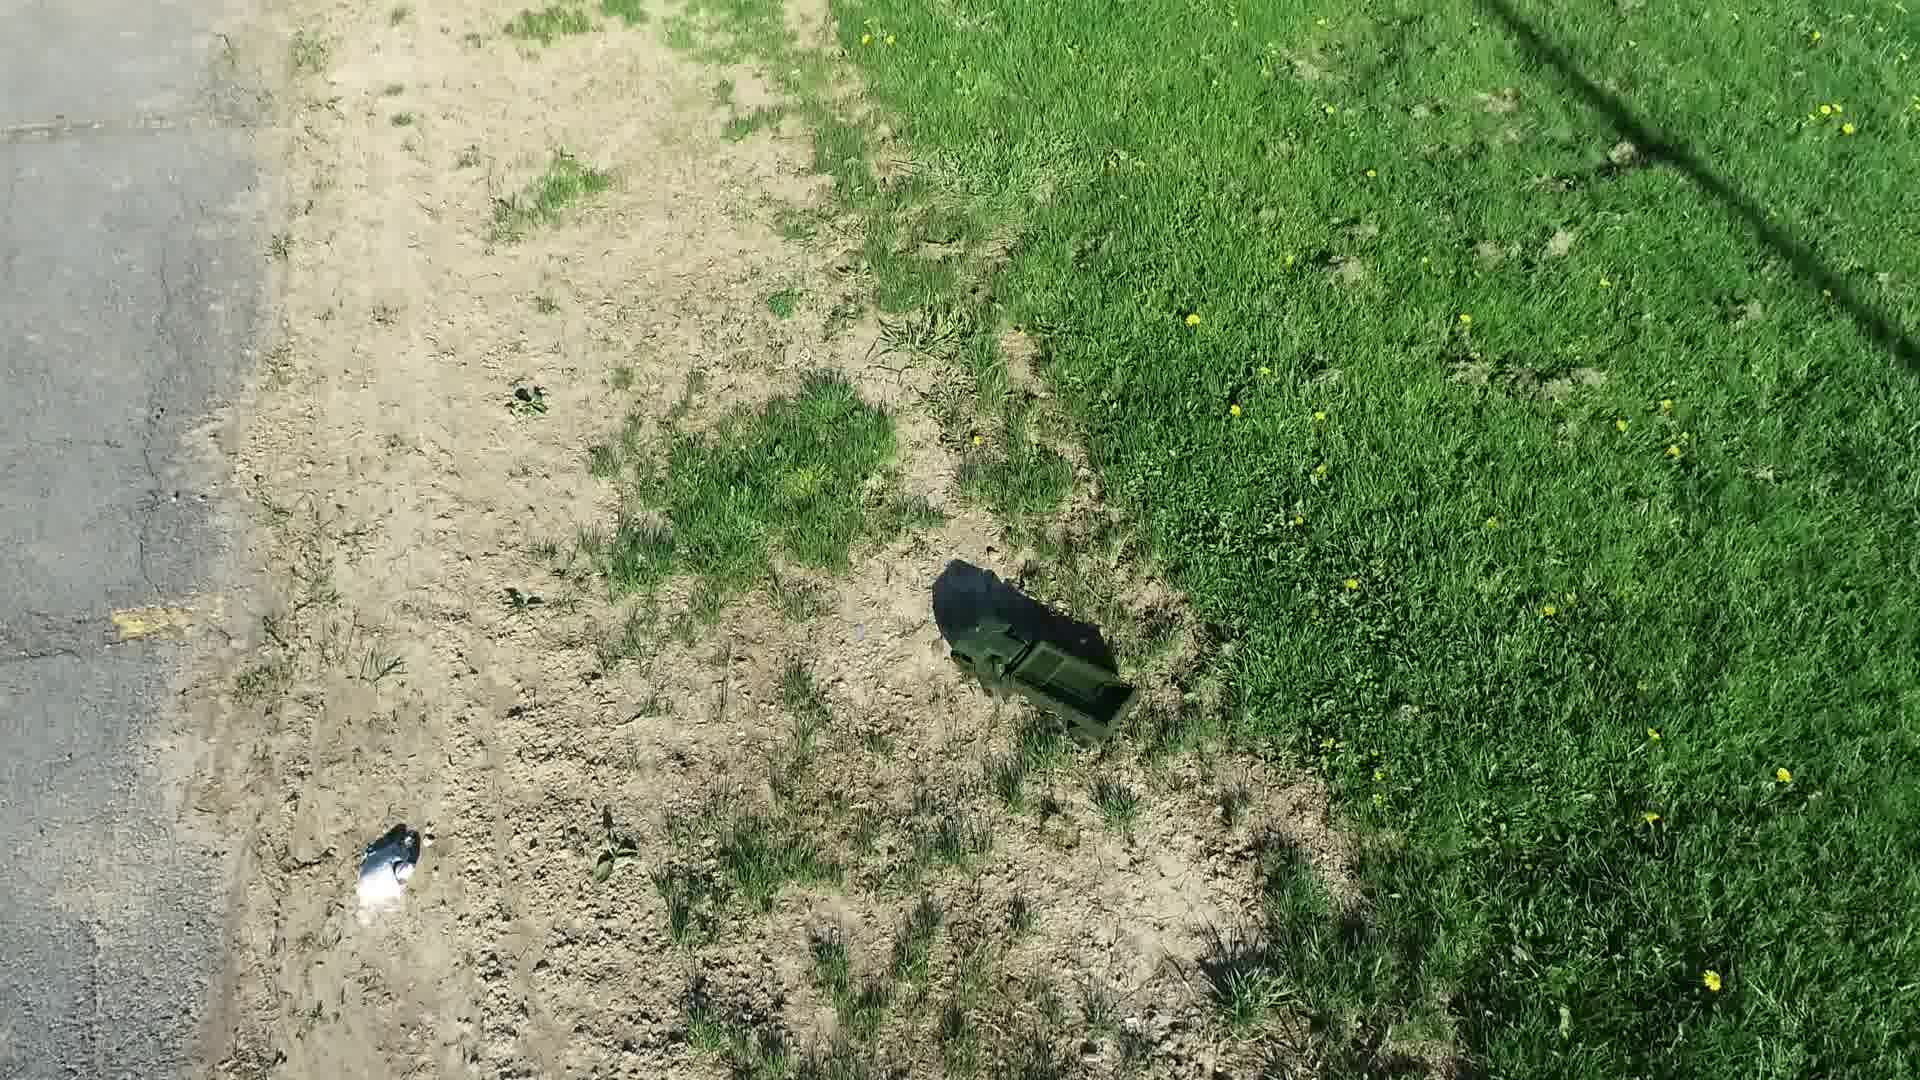transporter9: (942, 608, 1156, 761)
